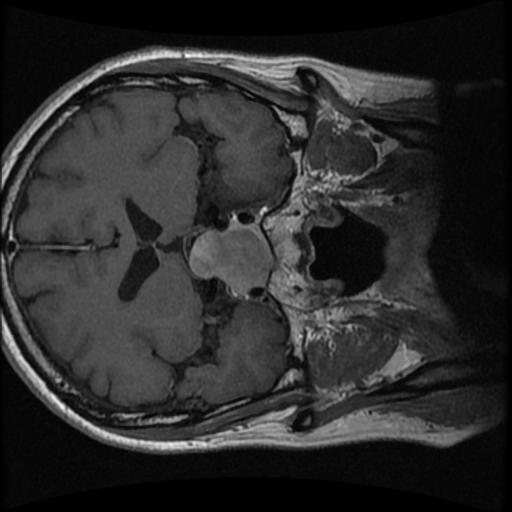pituitary tumour: (190, 225, 273, 291)
